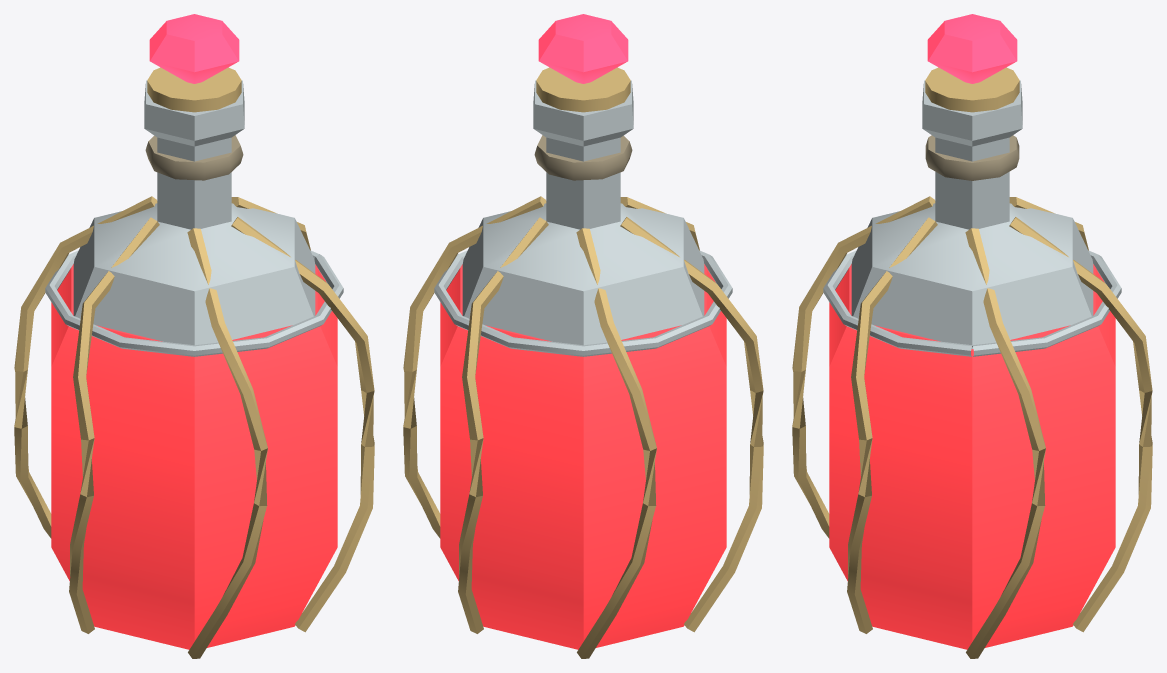
File: superior_health_potion.glb
3 views of the same model, side by side, from view 1: azimuth 30°, elevation 25°; view 2: azimuth 150°, elevation 25°; view 3: azimuth 270°, elevation 25° (orthographic).
Parts seen in each view (by area): view 1: superior_health_potion; view 2: superior_health_potion; view 3: superior_health_potion.
Boxes of the visible parts, x1=… form: superior_health_potion: x1=14, y1=14, x2=374, y2=658; superior_health_potion: x1=403, y1=14, x2=763, y2=658; superior_health_potion: x1=792, y1=14, x2=1152, y2=658.
Bounding box in the file's own units: 0.1049 × 0.195 × 0.109.
